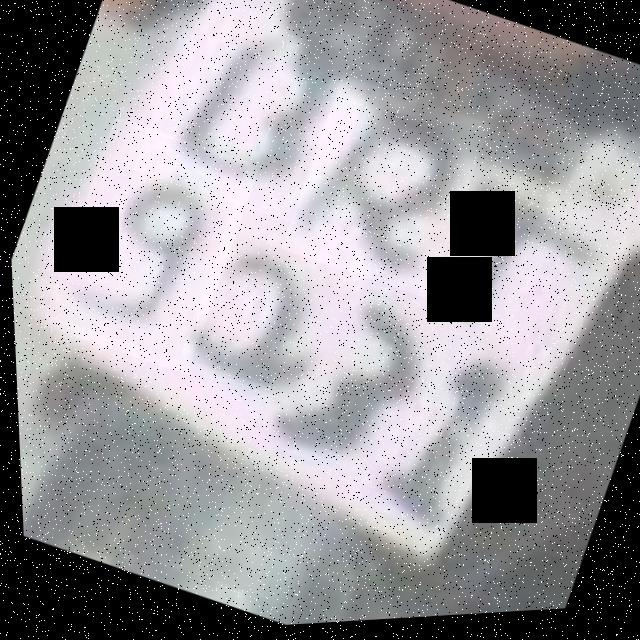8: (32, 111, 265, 383)
9: (37, 116, 252, 368), (272, 72, 493, 311)
T: (400, 158, 594, 372)
U: (124, 0, 392, 243)
